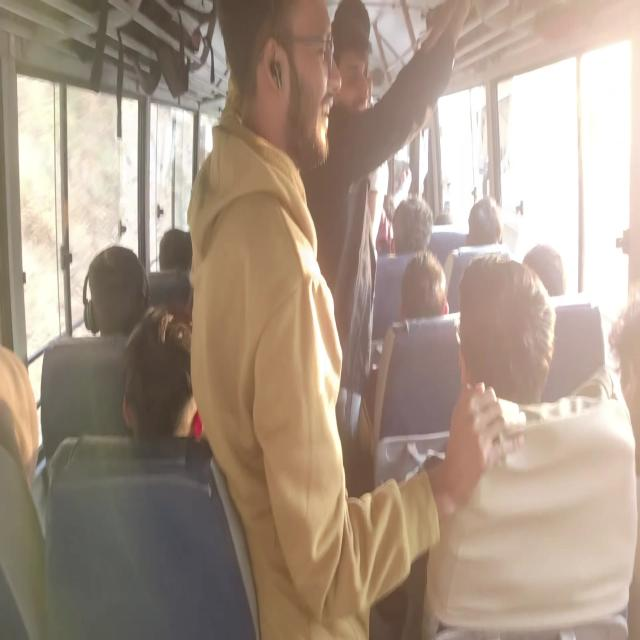person: (469, 259, 575, 486), (242, 10, 346, 188), (126, 343, 195, 447), (0, 333, 42, 496), (526, 246, 601, 331), (401, 268, 468, 345), (83, 253, 145, 334), (607, 336, 640, 488), (340, 30, 383, 134), (155, 229, 208, 280), (390, 188, 426, 257), (316, 0, 376, 41), (455, 192, 499, 244), (419, 164, 447, 212)
